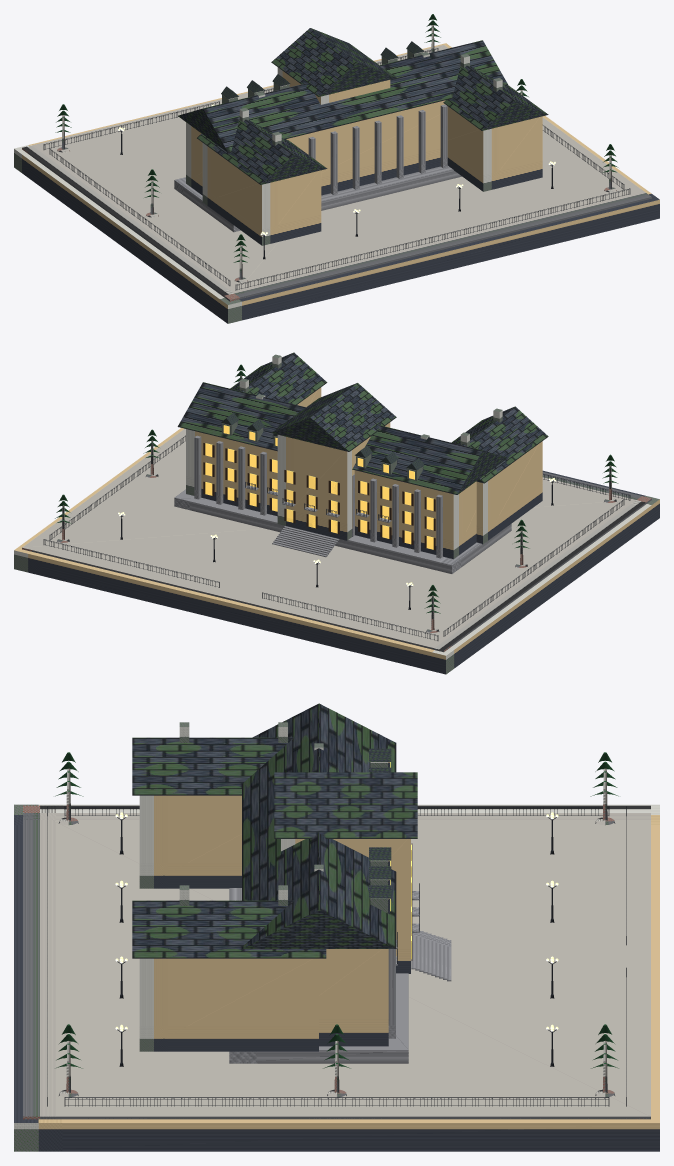
The model's file is ultra_lm_18_phan_vien_sinh_hoc.glb.
3 renders of one model, top to bottom at view 1: azimuth 30°, elevation 25°; view 2: azimuth 150°, elevation 25°; view 3: azimuth 270°, elevation 25°, orthographic. The views are drawn at different scales.
Visible parts, largest first — view 1: TungLam1950_Promenade_GraniteCurb_And_WormBrick, TungLam1950_Gothic_MossyGranite_Ashlar_And_Skirt, TungLam1950_Steep_Ardoise_Slate_Roofs_And_Dormers, TungLam1950_GranitePerron_Steps_And_Buttresses, TungLam1950_3DWroughtIron_Balconies_And_Streetlamps, TungLam1950_PineForest_And_Botanical_Gardens; view 2: TungLam1950_Promenade_GraniteCurb_And_WormBrick, TungLam1950_Gothic_MossyGranite_Ashlar_And_Skirt, TungLam1950_Steep_Ardoise_Slate_Roofs_And_Dormers, TungLam1950_GranitePerron_Steps_And_Buttresses, TungLam1950_3DWroughtIron_Balconies_And_Streetlamps, TungLam1950_Gothic_Arched_AmberGlass_Blend085, TungLam1950_Wooden_Louver_Shutters, TungLam1950_PineForest_And_Botanical_Gardens; view 3: TungLam1950_Promenade_GraniteCurb_And_WormBrick, TungLam1950_Gothic_MossyGranite_Ashlar_And_Skirt, TungLam1950_Steep_Ardoise_Slate_Roofs_And_Dormers, TungLam1950_GranitePerron_Steps_And_Buttresses, TungLam1950_3DWroughtIron_Balconies_And_Streetlamps, TungLam1950_PineForest_And_Botanical_Gardens.
Part boxes in pixels (x1,y1,x2,y2): TungLam1950_Promenade_GraniteCurb_And_WormBrick: (22, 25, 651, 301); TungLam1950_Gothic_MossyGranite_Ashlar_And_Skirt: (14, 43, 659, 323); TungLam1950_Steep_Ardoise_Slate_Roofs_And_Dormers: (178, 28, 548, 184); TungLam1950_GranitePerron_Steps_And_Buttresses: (174, 104, 461, 232); TungLam1950_3DWroughtIron_Balconies_And_Streetlamps: (43, 48, 630, 290); TungLam1950_PineForest_And_Botanical_Gardens: (55, 14, 618, 262); TungLam1950_Promenade_GraniteCurb_And_WormBrick: (22, 375, 651, 652); TungLam1950_Gothic_MossyGranite_Ashlar_And_Skirt: (14, 354, 659, 674); TungLam1950_Steep_Ardoise_Slate_Roofs_And_Dormers: (177, 352, 548, 494); TungLam1950_GranitePerron_Steps_And_Buttresses: (174, 435, 511, 573); TungLam1950_3DWroughtIron_Balconies_And_Streetlamps: (43, 435, 630, 640); TungLam1950_Gothic_Arched_AmberGlass_Blend085: (205, 425, 433, 549); TungLam1950_Wooden_Louver_Shutters: (203, 443, 435, 550); TungLam1950_PineForest_And_Botanical_Gardens: (55, 364, 618, 613); TungLam1950_Promenade_GraniteCurb_And_WormBrick: (23, 768, 650, 1119); TungLam1950_Gothic_MossyGranite_Ashlar_And_Skirt: (14, 722, 659, 1151); TungLam1950_Steep_Ardoise_Slate_Roofs_And_Dormers: (132, 703, 417, 958); TungLam1950_GranitePerron_Steps_And_Buttresses: (229, 888, 451, 1063); TungLam1950_3DWroughtIron_Balconies_And_Streetlamps: (47, 806, 626, 1106); TungLam1950_PineForest_And_Botanical_Gardens: (55, 752, 618, 1068).
Size of the model in its own units: 84 by 27.05 by 72.
Materials: 9 (4 with a texture image).
